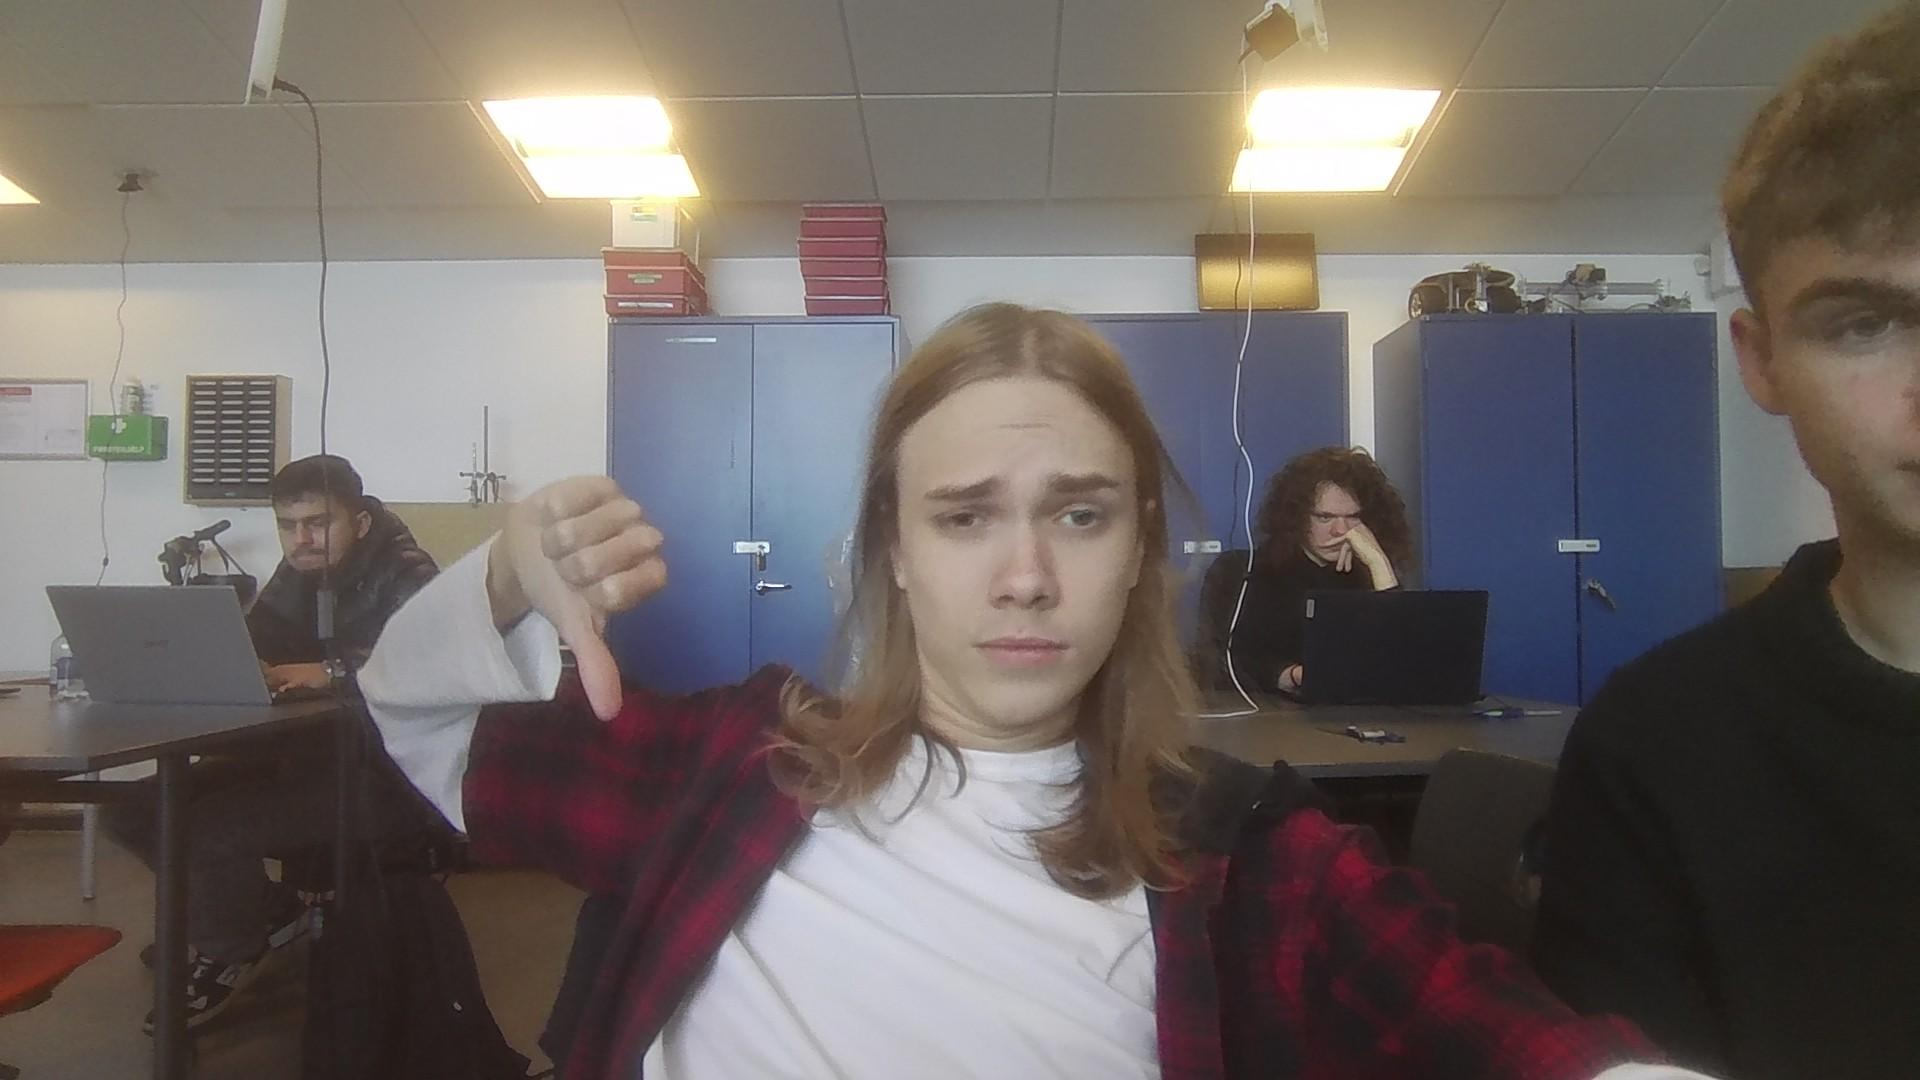thumbs down: (508, 468, 670, 728)
